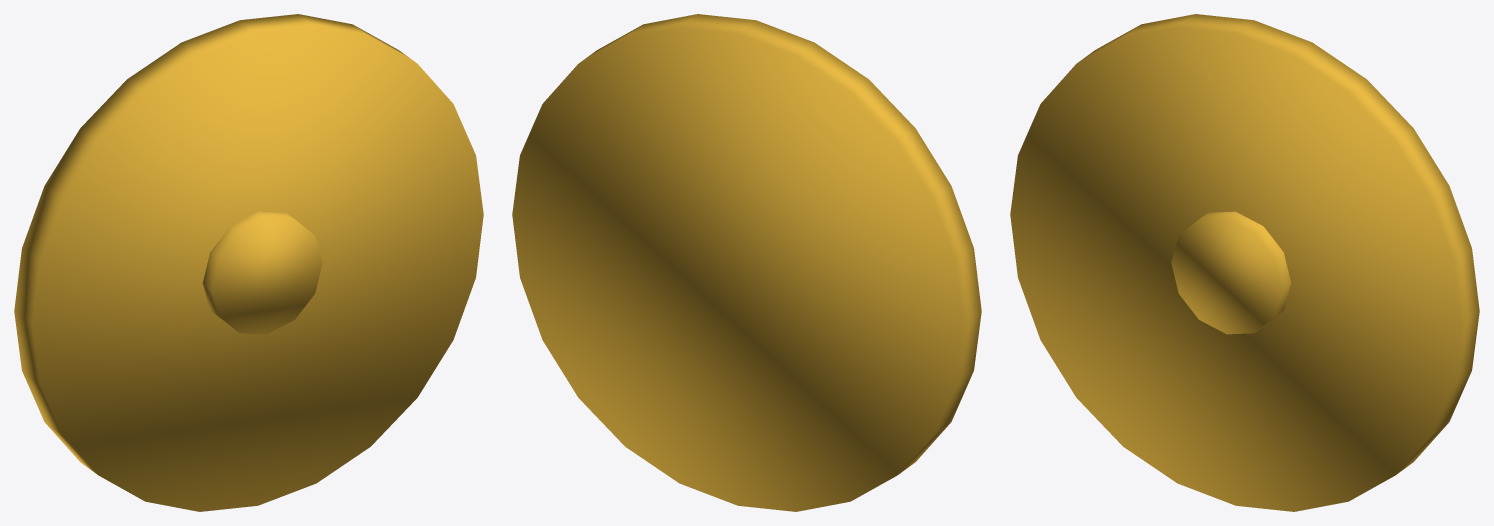
Rendered from shield.glb.
3 renders of one model, left to right at view 1: azimuth 30°, elevation 25°; view 2: azimuth 150°, elevation 25°; view 3: azimuth 330°, elevation 25°, orthographic.
Visible parts, largest first — view 1: shield; view 2: shield; view 3: shield.
Part boxes in pixels (x1,y1,x2,y2): shield: (14,14,483,511); shield: (512,14,981,511); shield: (1010,14,1479,511).
Bounding box in the file's own units: 1.14 × 1.14 × 0.12.
